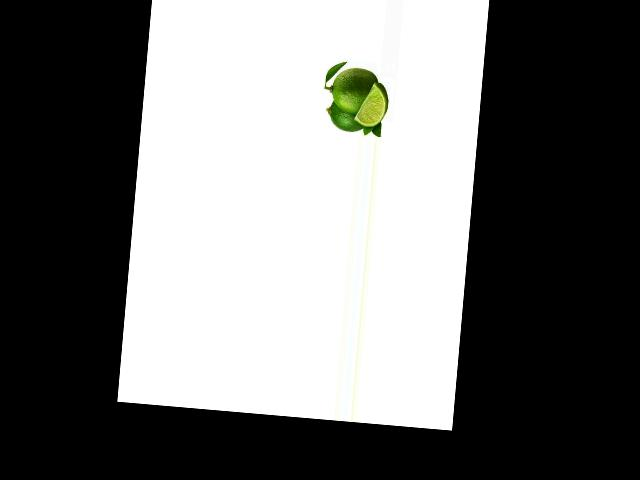lemon: (328, 65, 377, 113)
